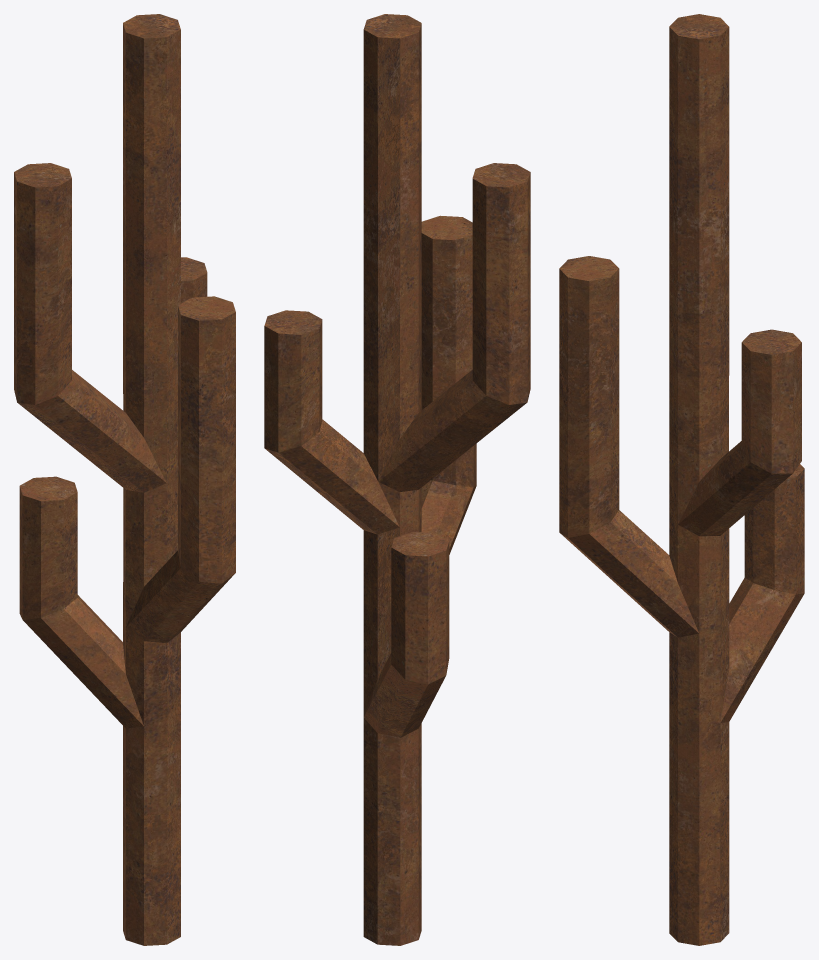
The model's file is rusty_pole5.glb.
3 views of the same model, side by side, from view 1: azimuth 30°, elevation 25°; view 2: azimuth 150°, elevation 25°; view 3: azimuth 270°, elevation 25° (orthographic).
Parts seen in each view (by area): view 1: Arm Spare.001; view 2: Arm Spare.001; view 3: Arm Spare.001.
Boxes of the visible parts, left/top/right/bottom form: Arm Spare.001: left=14, top=14, right=235, bottom=945; Arm Spare.001: left=264, top=14, right=530, bottom=945; Arm Spare.001: left=559, top=14, right=804, bottom=945.
Bounding box in the file's own units: 1.29 × 5 × 1.23.
Materials: 1 (1 with a texture image).
